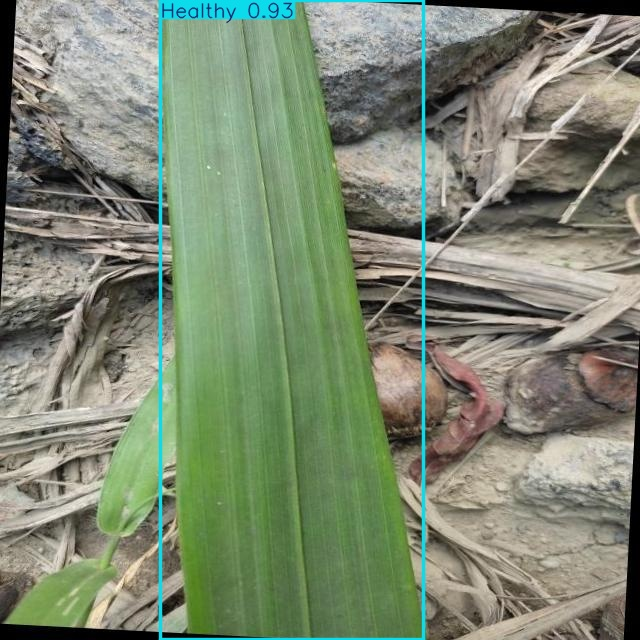Healthy: (160, 0, 424, 640)
